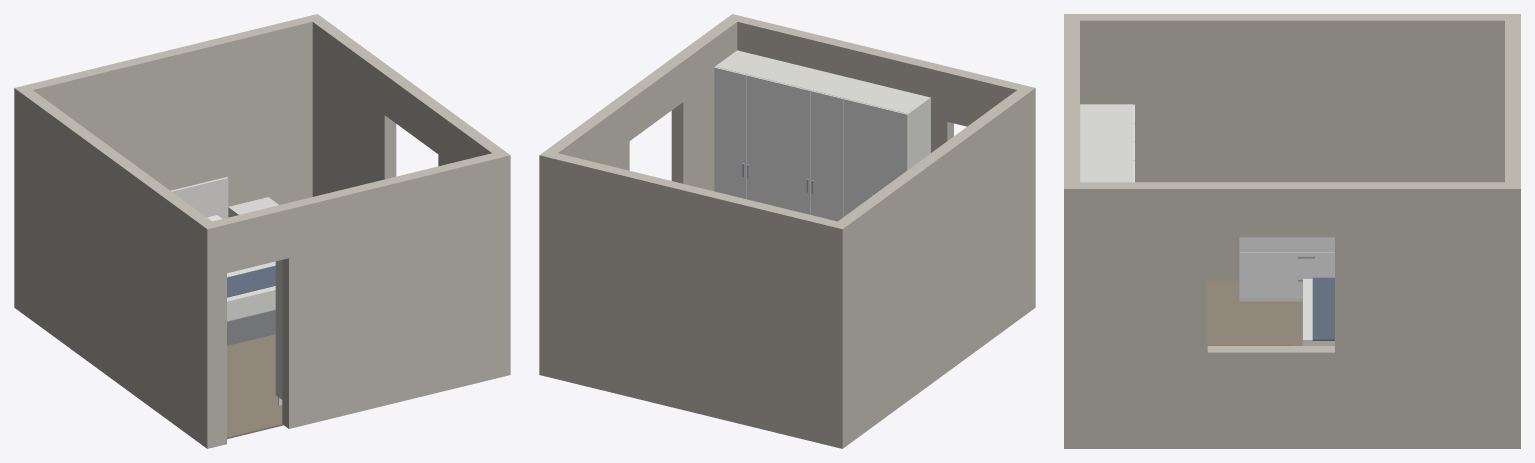
The model's file is Quarto_Casal_Real.dae.
3 views of the same model, side by side, from view 1: azimuth 30°, elevation 25°; view 2: azimuth 150°, elevation 25°; view 3: azimuth 270°, elevation 25° (orthographic). The views are drawn at different scales.
Parts seen in each view (by area): view 1: Parede_C_1, Parede_D_1, Parede_A_1, Parede_B_1, Parede_C_3, Piso, Parede_C_2, Parede_B_3, Parede_B_4, M01_wall_panel_Painel, M02_bed_Colchao, M02_bed_Base_Box (+2 smaller); view 2: Parede_A_1, Parede_D_1, M05_wardrobe, Parede_C_1, Parede_B_4, M05_wardrobe_Tampo_Interno, Parede_B_1, Parede_B_3, Parede_C_2, Parede_C_3, M05_wardrobe_Lateral_Direita; view 3: Parede_D_1, Parede_B_1, Parede_B_4, Parede_B_2, Parede_B_3, Parede_A_1, Parede_C_1, M06_dresser, Piso, M05_wardrobe_Tampo_Interno, M02_bed_Peseira__manta_, M02_bed_Colchao (+1 smaller).
Boxes of the visible parts, x1,y1,x2,y2 form: Parede_C_1: [282, 150, 510, 428]; Parede_D_1: [21, 90, 211, 443]; Parede_A_1: [14, 14, 323, 312]; Parede_B_1: [312, 19, 396, 196]; Parede_C_3: [200, 219, 226, 448]; Piso: [227, 334, 283, 438]; Parede_C_2: [220, 204, 288, 273]; Parede_B_3: [384, 71, 449, 153]; Parede_B_4: [438, 111, 503, 166]; M01_wall_panel_Painel: [170, 177, 228, 218]; M02_bed_Colchao: [227, 261, 275, 321]; M02_bed_Base_Box: [227, 309, 275, 345]; Parede_A_1: [539, 150, 849, 448]; Parede_D_1: [838, 90, 1028, 443]; M05_wardrobe: [714, 67, 908, 221]; Parede_C_1: [726, 14, 953, 152]; Parede_B_4: [671, 19, 737, 191]; M05_wardrobe_Tampo_Interno: [716, 50, 928, 113]; Parede_B_1: [546, 98, 629, 170]; Parede_B_3: [618, 58, 683, 140]; Parede_C_2: [947, 68, 1015, 126]; Parede_C_3: [1009, 83, 1035, 312]; M05_wardrobe_Lateral_Direita: [907, 97, 930, 169]; Parede_D_1: [1080, 14, 1504, 280]; Parede_B_1: [1335, 182, 1504, 448]; Parede_B_4: [1080, 182, 1207, 448]; Parede_B_2: [1207, 346, 1334, 448]; Parede_B_3: [1207, 182, 1334, 237]; Parede_A_1: [1505, 14, 1520, 448]; Parede_C_1: [1064, 61, 1079, 448]; M06_dresser: [1239, 237, 1334, 298]; Piso: [1207, 280, 1302, 345]; M05_wardrobe_Tampo_Interno: [1080, 105, 1133, 182]; M02_bed_Peseira__manta_: [1312, 277, 1334, 340]; M02_bed_Colchao: [1303, 279, 1334, 345].
Size of the model in its own units: 3900 by 4300 by 2720.
